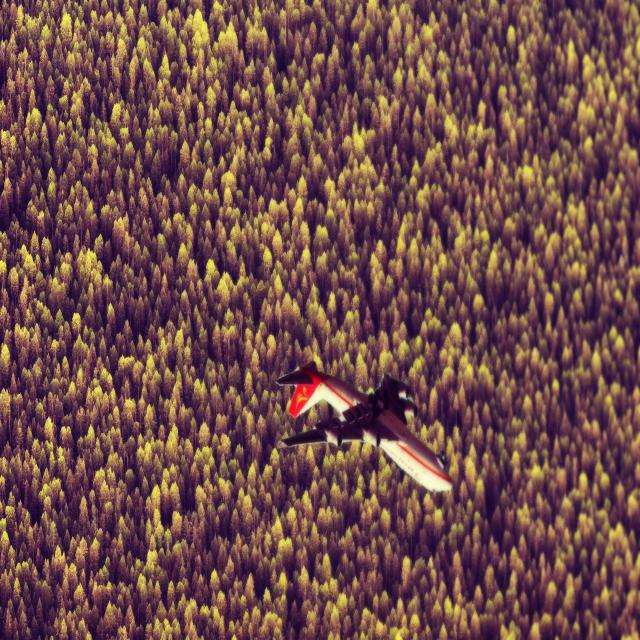airplane: (275, 360, 453, 494)
